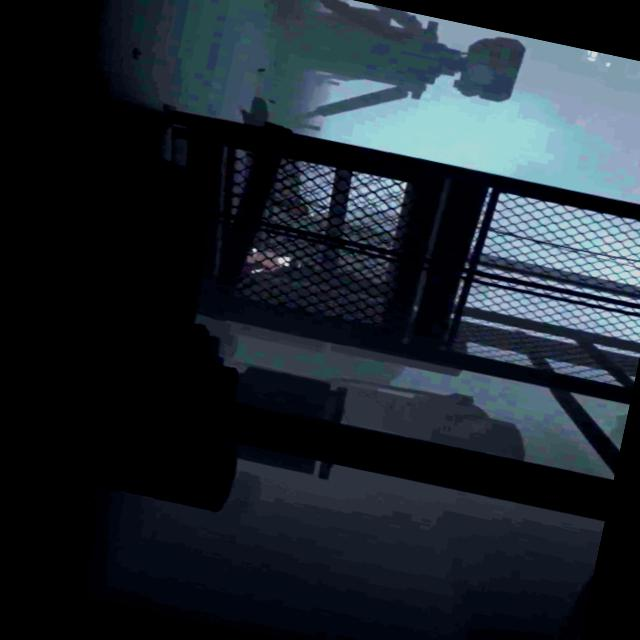boy: (244, 248, 296, 282)
